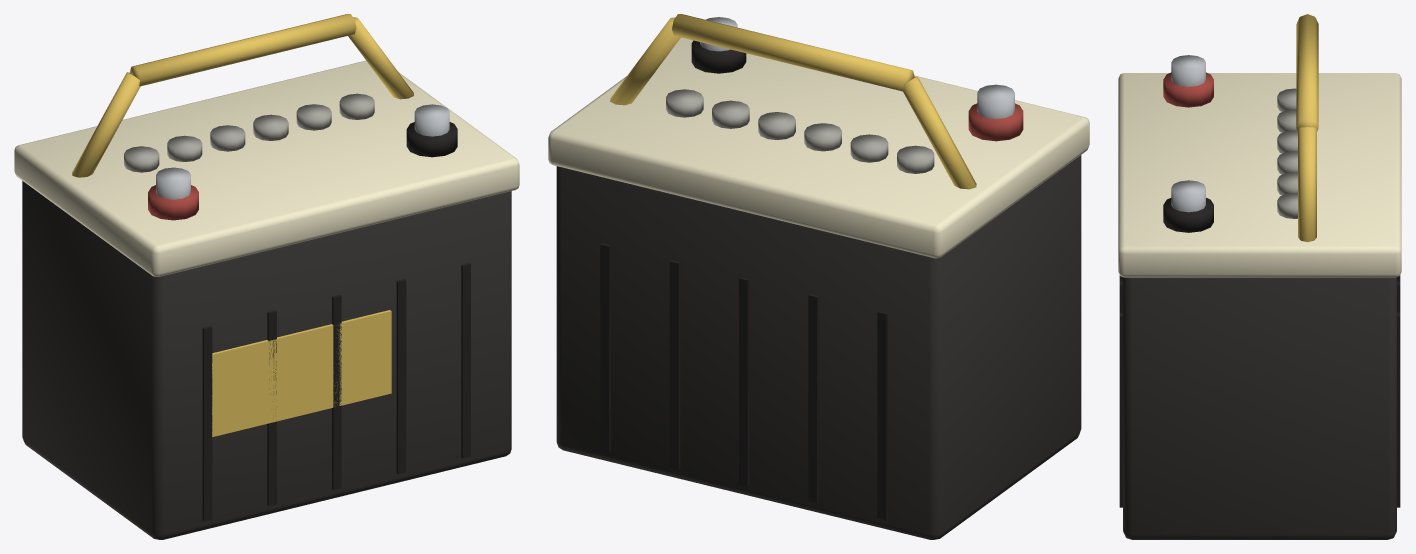
Rendered from car_battery.glb.
3 views of the same model, side by side, from view 1: azimuth 30°, elevation 25°; view 2: azimuth 150°, elevation 25°; view 3: azimuth 270°, elevation 25° (orthographic). The views are drawn at different scales.
Parts seen in each view (by area): view 1: case, lid, label, h3, h1, rib3, rib0, rib4, rib2, h2, boot_n, boot_p (+9 smaller); view 2: case, lid, h3, h1, rib3, rib0, rib2, rib1, rib4, h2, boot_p, boot_n (+7 smaller); view 3: case, lid, h3, h2, rib4, boot_p, boot_n, post_n, post_p, cap5, cap2, cap3 (+3 smaller).
Part boxes in pixels (x1,y1,x2,y2): case: (22,181,511,539); lid: (14,60,519,276); label: (212,310,391,436); h3: (129,14,356,86); h1: (72,72,140,177); rib3: (396,279,406,474); rib0: (202,326,212,521); rib4: (461,263,470,458); rib2: (332,294,341,489); h2: (348,17,413,99); boot_n: (406,122,457,157); boot_p: (148,185,198,220); case: (556,155,1081,539); lid: (548,37,1089,258); h3: (672,14,914,91); h1: (903,76,976,189); rib3: (669,260,680,469); rib0: (877,311,887,520); rib2: (739,277,749,486); rib1: (808,294,818,503); rib4: (600,243,610,452); h2: (610,17,680,105); boot_p: (968,103,1023,141); boot_n: (691,40,746,73); case: (1123,277,1396,539); lid: (1118,73,1401,277); h3: (1296,14,1318,131); h2: (1298,127,1316,241); rib4: (1119,312,1400,507); boot_p: (1163,72,1213,107); boot_n: (1163,198,1213,232); post_n: (1171,180,1205,212); post_p: (1171,55,1205,86); cap5: (1277,193,1297,218); cap2: (1277,130,1297,153); cap3: (1277,151,1297,174).
Size of the model in its own units: 0.266 by 0.272 by 0.179.
